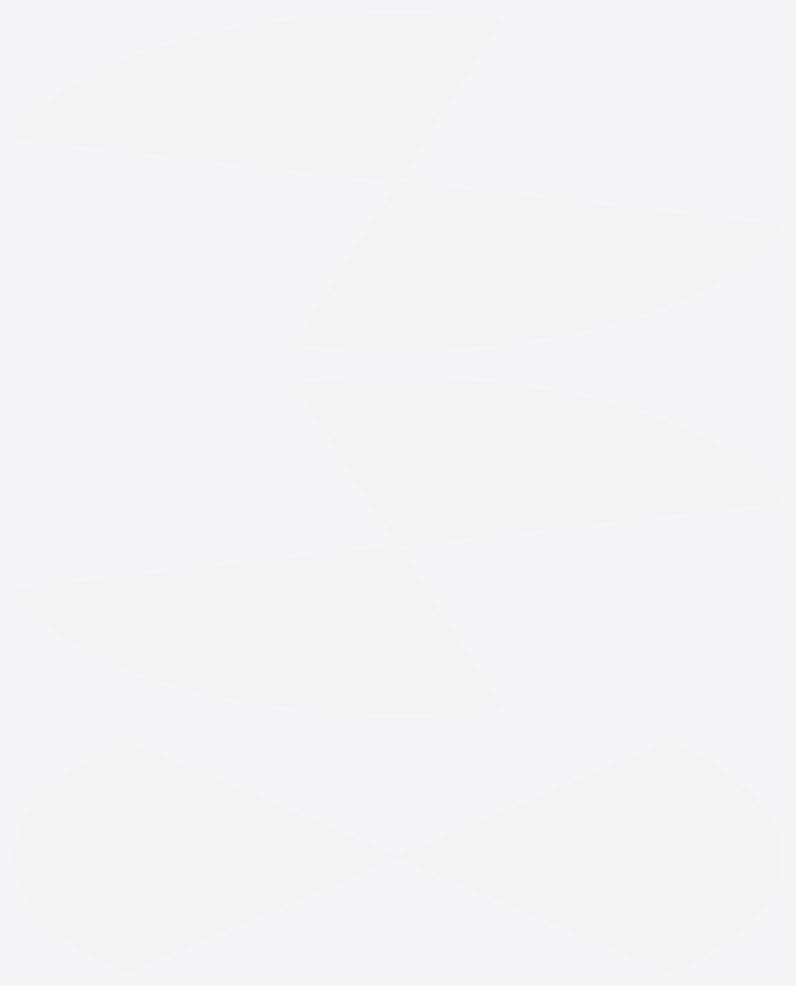
Rendered from radarSector.gltf.
3 renders of one model, top to bottom at view 1: azimuth 30°, elevation 25°; view 2: azimuth 150°, elevation 25°; view 3: azimuth 270°, elevation 25°, orthographic. The views are drawn at different scales.
Parts seen in each view (by area): view 1: 圆环.001; view 2: 圆环.001; view 3: 圆环.001.
Part boxes in pixels (bbox=[...]): 圆环.001: bbox=[14, 14, 781, 349]; 圆环.001: bbox=[14, 378, 781, 713]; 圆环.001: bbox=[14, 742, 781, 971].
Size of the model in its own units: 1.41 by 0 by 1.99.
Materials: 1 (1 with a texture image).
